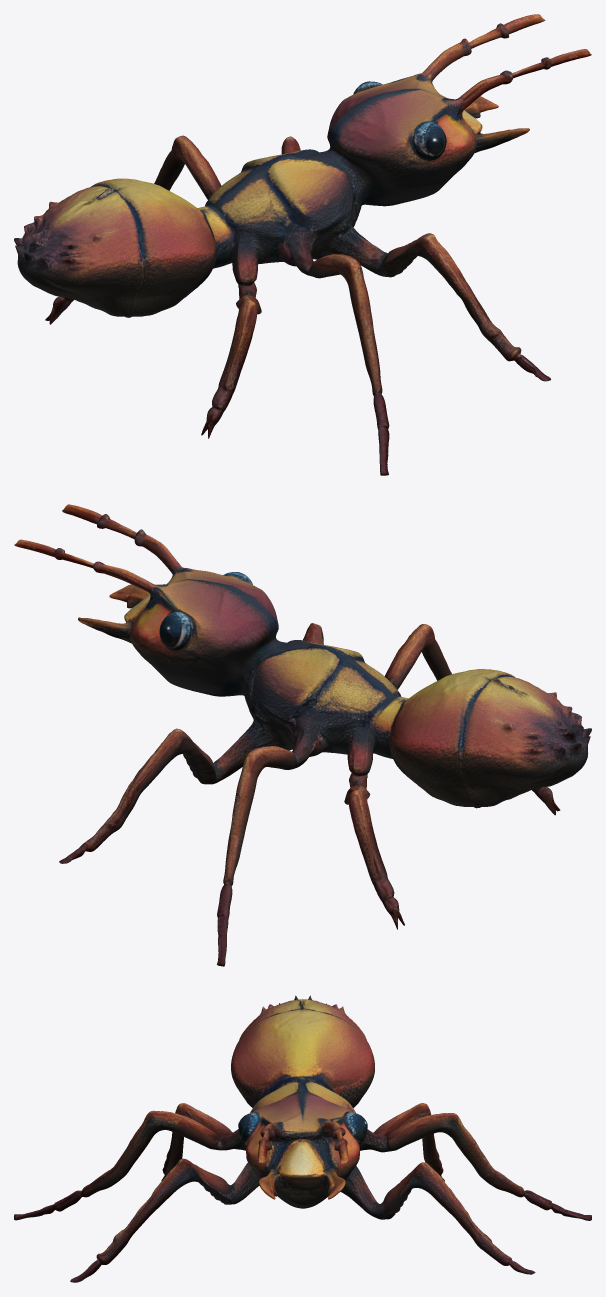
The model's file is hormiga.glb.
3 renders of one model, top to bottom at view 1: azimuth 30°, elevation 25°; view 2: azimuth 150°, elevation 25°; view 3: azimuth 270°, elevation 25°, orthographic. The views are drawn at different scales.
Visible parts, largest first — view 1: tripo_node_68b4ee40-cc8d-4ff9-935d-069bd04e31d4; view 2: tripo_node_68b4ee40-cc8d-4ff9-935d-069bd04e31d4; view 3: tripo_node_68b4ee40-cc8d-4ff9-935d-069bd04e31d4.
Boxes of the visible parts, <box> form: tripo_node_68b4ee40-cc8d-4ff9-935d-069bd04e31d4: <box>14,14,591,475</box>; tripo_node_68b4ee40-cc8d-4ff9-935d-069bd04e31d4: <box>14,504,591,966</box>; tripo_node_68b4ee40-cc8d-4ff9-935d-069bd04e31d4: <box>14,995,591,1282</box>.
Bounding box in the file's own units: 0.955 × 0.4042 × 1.
1 material, 1 textured.
